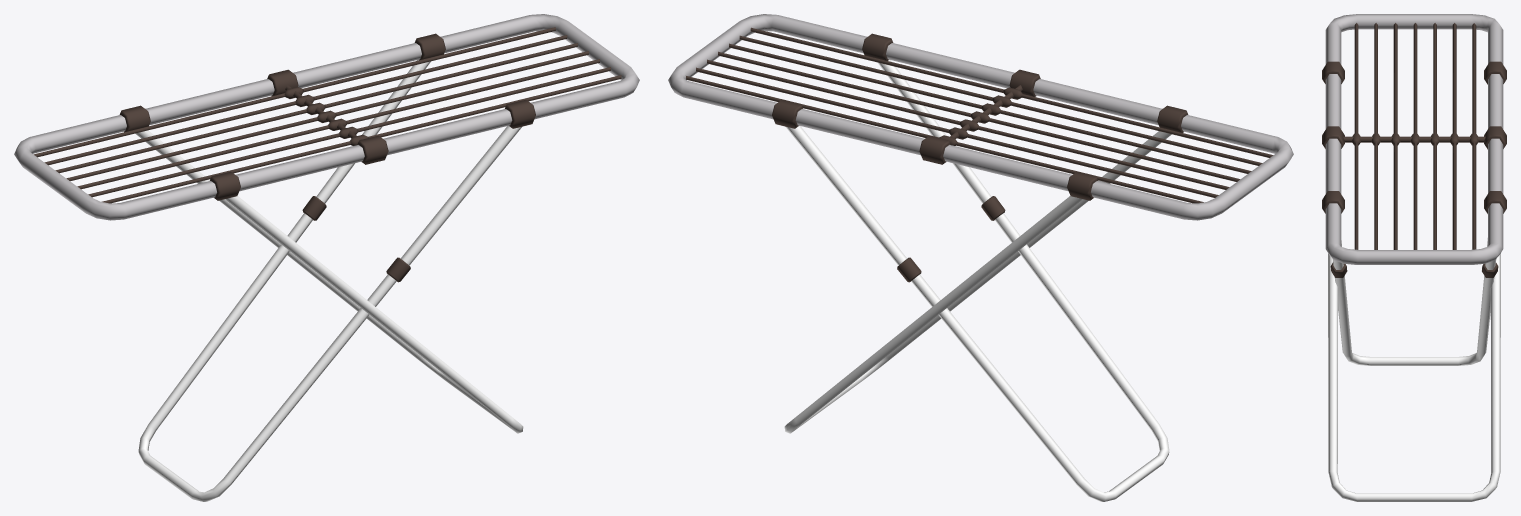
The picture shows the model from 3 angles, left to right: view 1: azimuth 30°, elevation 25°; view 2: azimuth 150°, elevation 25°; view 3: azimuth 270°, elevation 25°; orthographic projection. The views are drawn at different scales.
Parts seen in each view (by area): view 1: bathroom.015; view 2: bathroom.015; view 3: bathroom.015.
Part boxes in pixels (bbox=[...]): bathroom.015: bbox=[14, 14, 639, 501]; bathroom.015: bbox=[668, 14, 1293, 501]; bathroom.015: bbox=[1322, 14, 1506, 501].
Size of the model in its own units: 1.79 by 1.04 by 0.5763.
